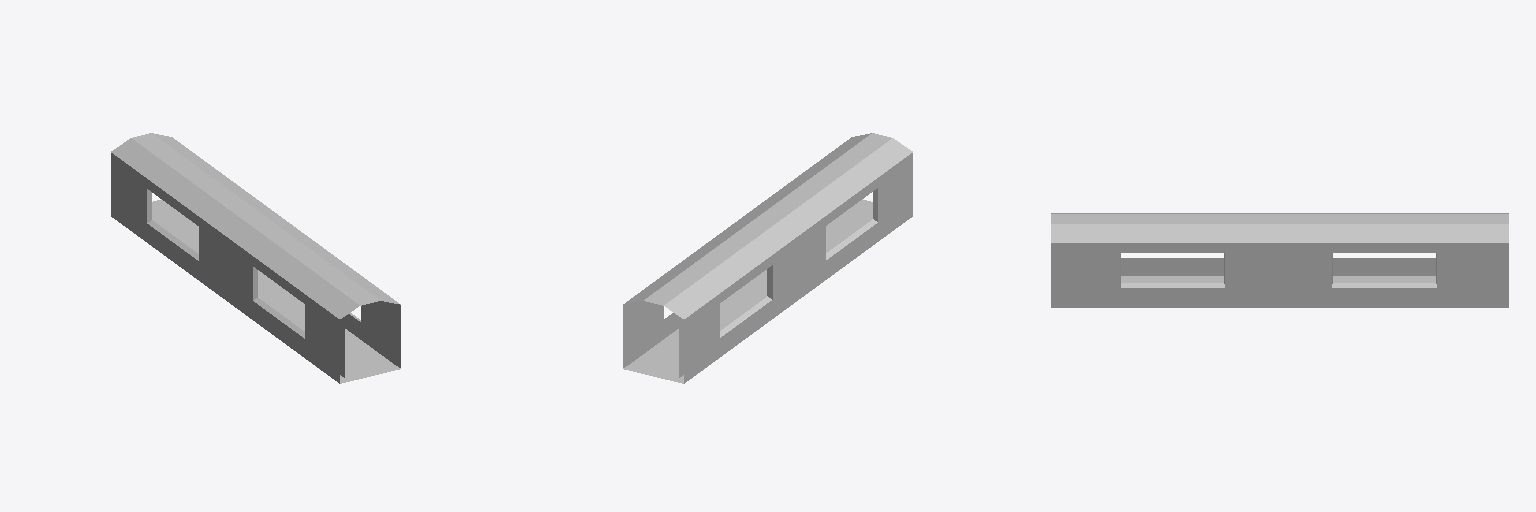
File: Skywalk.obj
3 renders of one model, left to right at view 1: azimuth 30°, elevation 25°; view 2: azimuth 150°, elevation 25°; view 3: azimuth 270°, elevation 25°, orthographic.
Parts seen in each view (by area): view 1: pCube59; view 2: pCube59; view 3: pCube59.
Boxes of the visible parts, <box> form: pCube59: <box>111,133,400,383</box>; pCube59: <box>623,133,912,383</box>; pCube59: <box>1051,213,1508,307</box>.
Size of the model in its own units: 8.15 by 9.3 by 52.78.